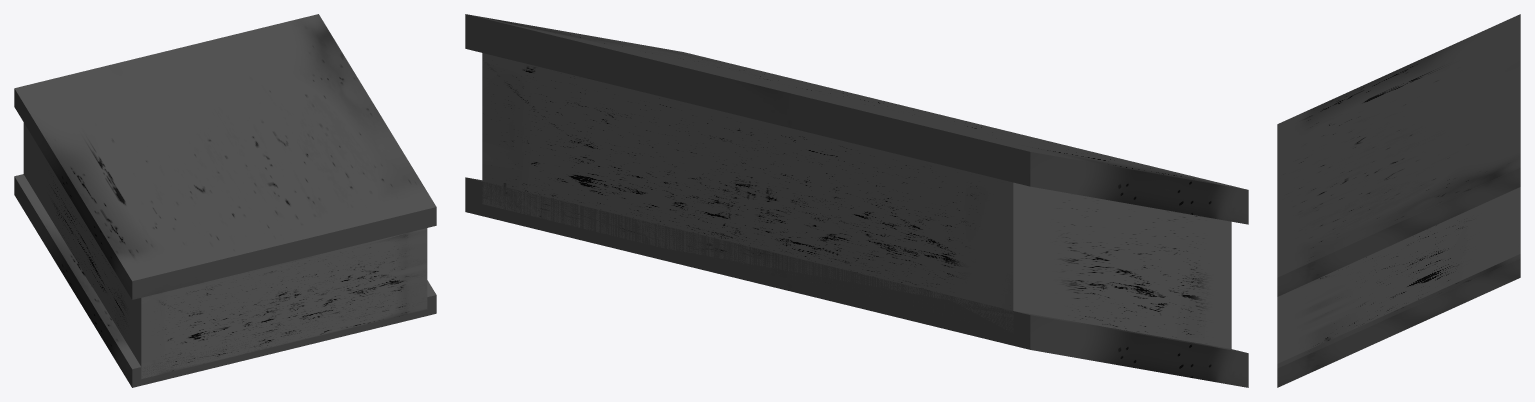
The model's file is Platform_2x3_Ramp_V1.fbx.
3 views of the same model, side by side, from view 1: azimuth 30°, elevation 25°; view 2: azimuth 150°, elevation 25°; view 3: azimuth 270°, elevation 25° (orthographic). The views are drawn at different scales.
Parts seen in each view (by area): view 1: Platform 2x3 Ramp V1; view 2: Platform 2x3 Ramp V1; view 3: Platform 2x3 Ramp V1.
Boxes of the visible parts, bbox=[...] form: Platform 2x3 Ramp V1: bbox=[14, 14, 436, 387]; Platform 2x3 Ramp V1: bbox=[465, 14, 1248, 387]; Platform 2x3 Ramp V1: bbox=[1277, 14, 1520, 387].
Bounding box in the file's own units: 298 × 200 × 200.
